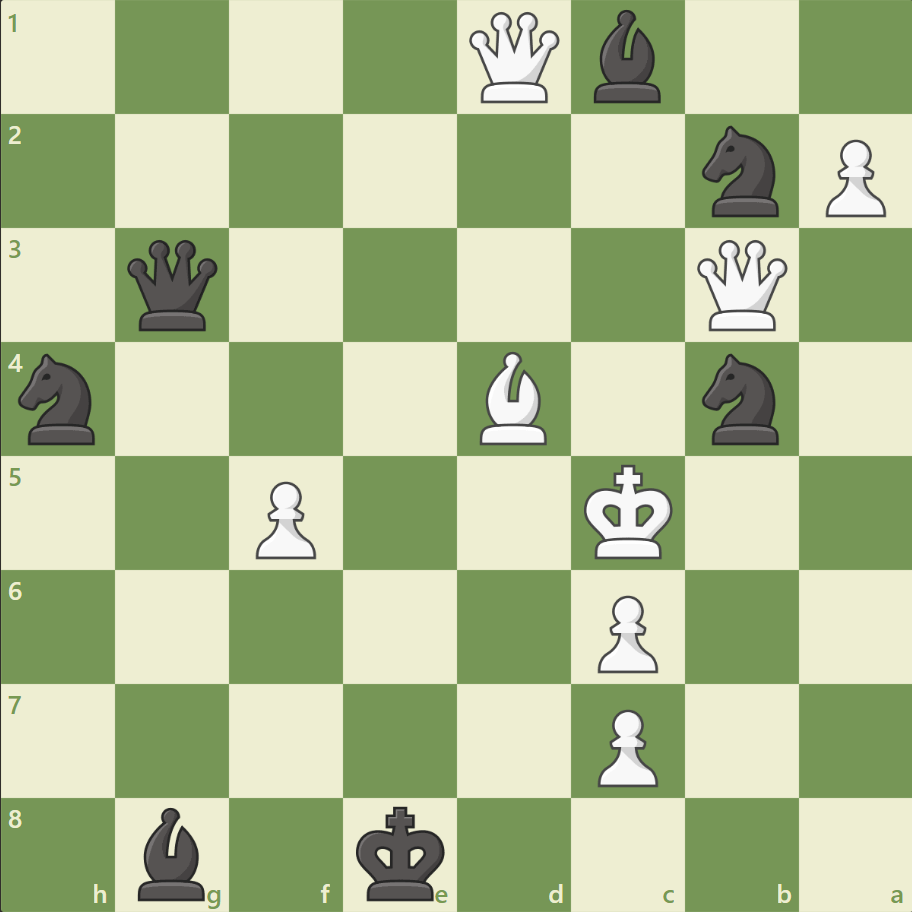B: (471, 347, 555, 449)
K: (579, 458, 679, 566)
P: (247, 473, 322, 564), (588, 700, 662, 791), (588, 586, 662, 677), (815, 132, 889, 223)
Q: (691, 236, 790, 335), (464, 9, 563, 108)
b: (131, 801, 215, 904), (585, 6, 669, 109)
k: (351, 798, 451, 906)
n: (692, 348, 789, 450), (11, 348, 108, 450), (692, 121, 789, 223)
q: (124, 236, 223, 335)
